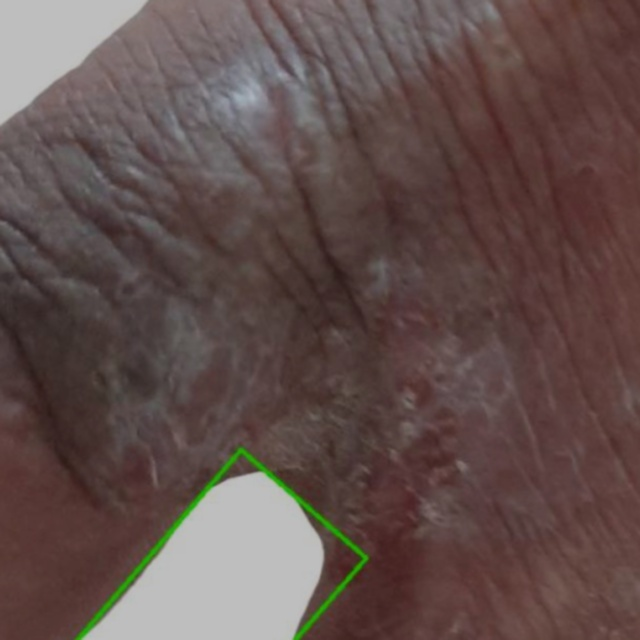Eczema: (78, 450, 366, 639)
